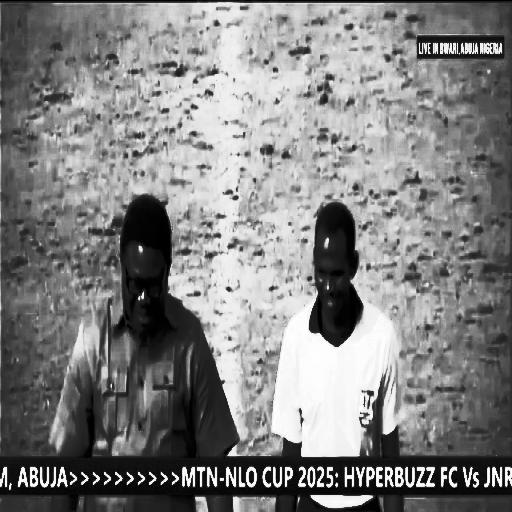referee: (269, 151, 406, 512)
